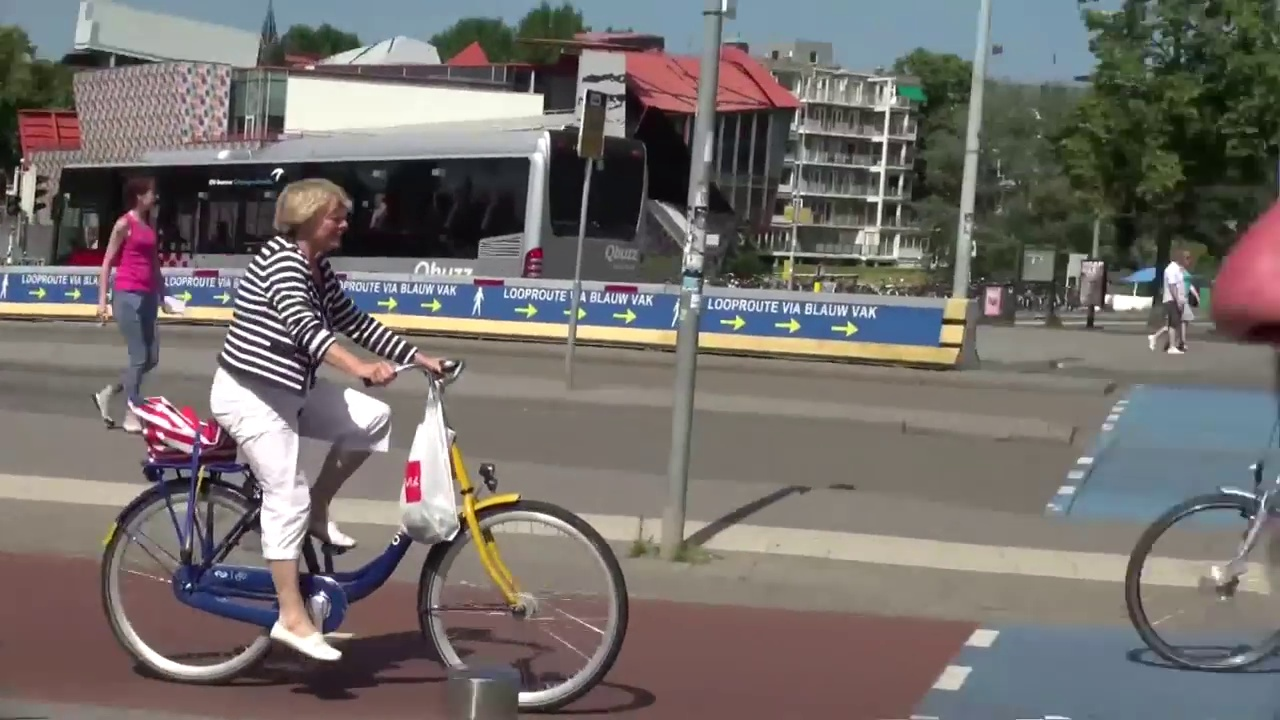cyclist_side: (82, 176, 642, 705)
